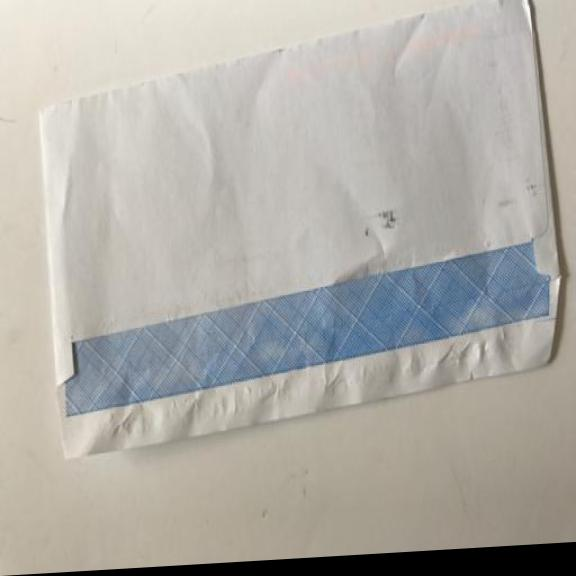Kertas: (31, 0, 566, 449)
